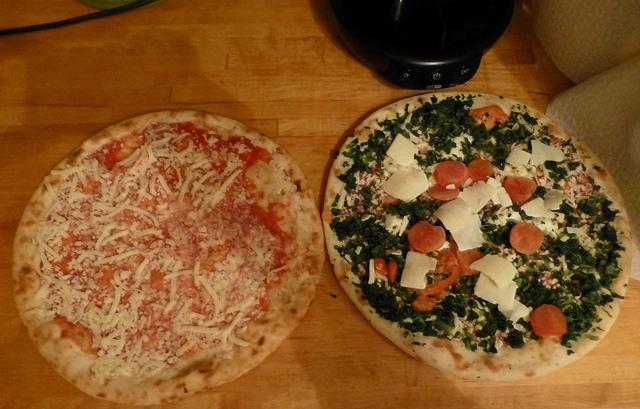tomato: (404, 264, 460, 296), (448, 238, 486, 276), (408, 220, 446, 253), (530, 304, 566, 338), (509, 223, 544, 254), (468, 105, 509, 130), (433, 160, 469, 188), (502, 176, 536, 202), (466, 160, 494, 182), (428, 183, 460, 200), (438, 248, 458, 274), (411, 294, 438, 312), (386, 261, 397, 283), (374, 258, 386, 275), (542, 272, 552, 286), (208, 246, 215, 254), (150, 326, 160, 330), (558, 140, 564, 146)
